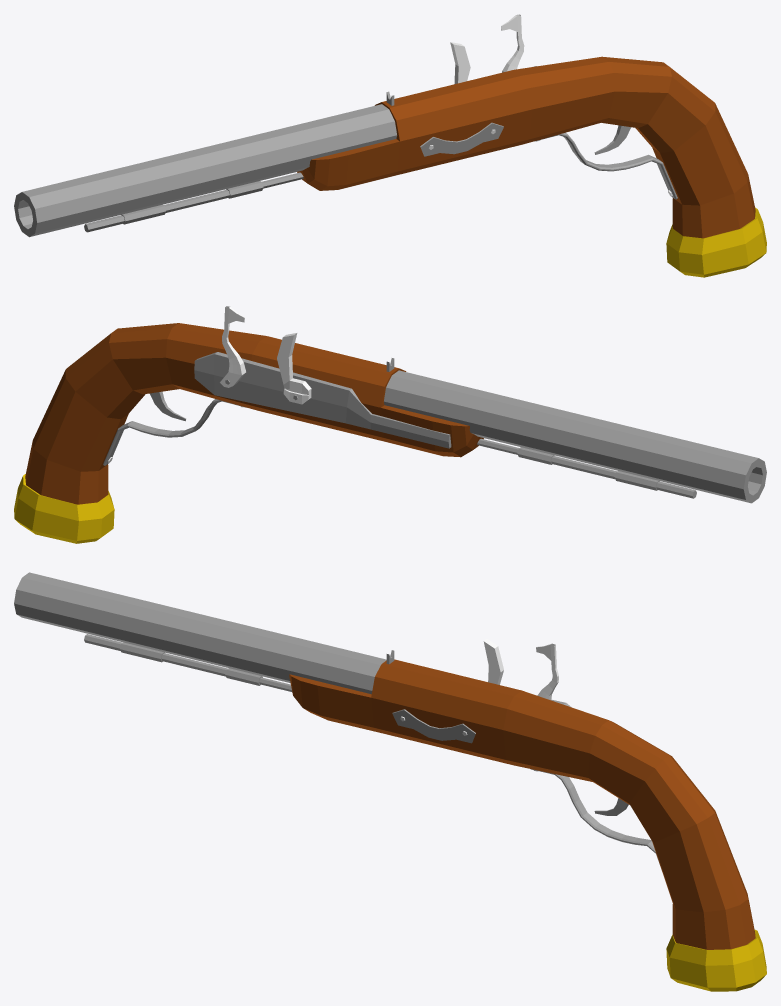
The model's file is Flintlock.fbx.
The picture shows the model from 3 angles, top to bottom: view 1: azimuth 30°, elevation 25°; view 2: azimuth 150°, elevation 25°; view 3: azimuth 330°, elevation 25°; orthographic projection.
Visible parts, largest first — view 1: Cylinder.310; view 2: Cylinder.310; view 3: Cylinder.310.
Boxes of the visible parts, <box> form: Cylinder.310: <box>14,14,766,277</box>; Cylinder.310: <box>14,306,766,543</box>; Cylinder.310: <box>14,572,766,991</box>.
Bounding box in the file's own units: 560 × 203 × 54.23.
